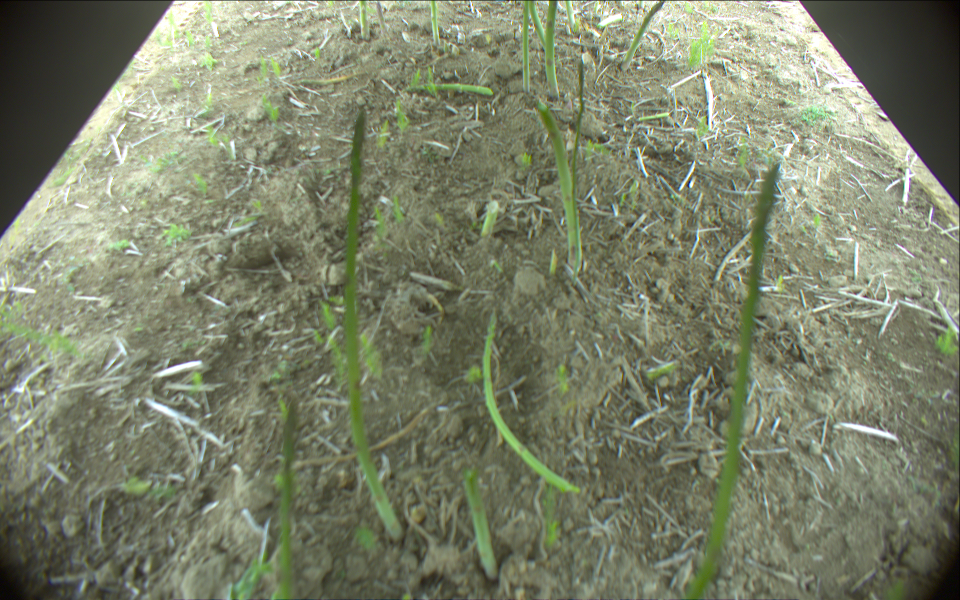aspa: (681, 163, 780, 599), (341, 108, 407, 541), (478, 302, 580, 492), (536, 104, 582, 267), (272, 400, 299, 600), (462, 471, 498, 584), (621, 1, 664, 69), (573, 56, 584, 287), (403, 82, 494, 97), (519, 1, 531, 90), (545, 1, 556, 97), (529, 1, 545, 44), (481, 198, 497, 240), (375, 1, 388, 39), (597, 13, 625, 29), (564, 1, 577, 33), (430, 1, 439, 47), (359, 1, 369, 39)
